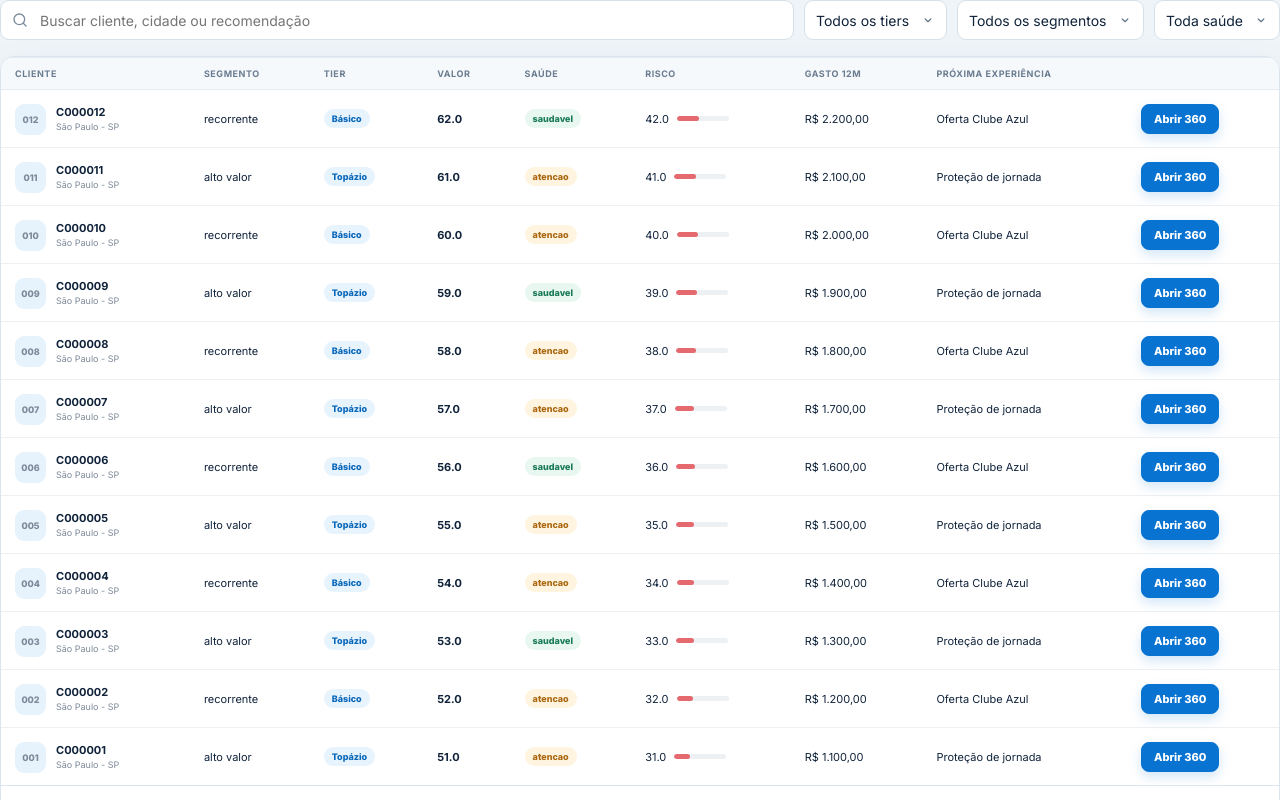
Test: explorador de clientes › combina filtros de tier e saúde
The width and height of the screenshot is (1280, 800).
Select "Topázio" in the 1st dropdown at (876, 20), box [804, 0, 947, 40]
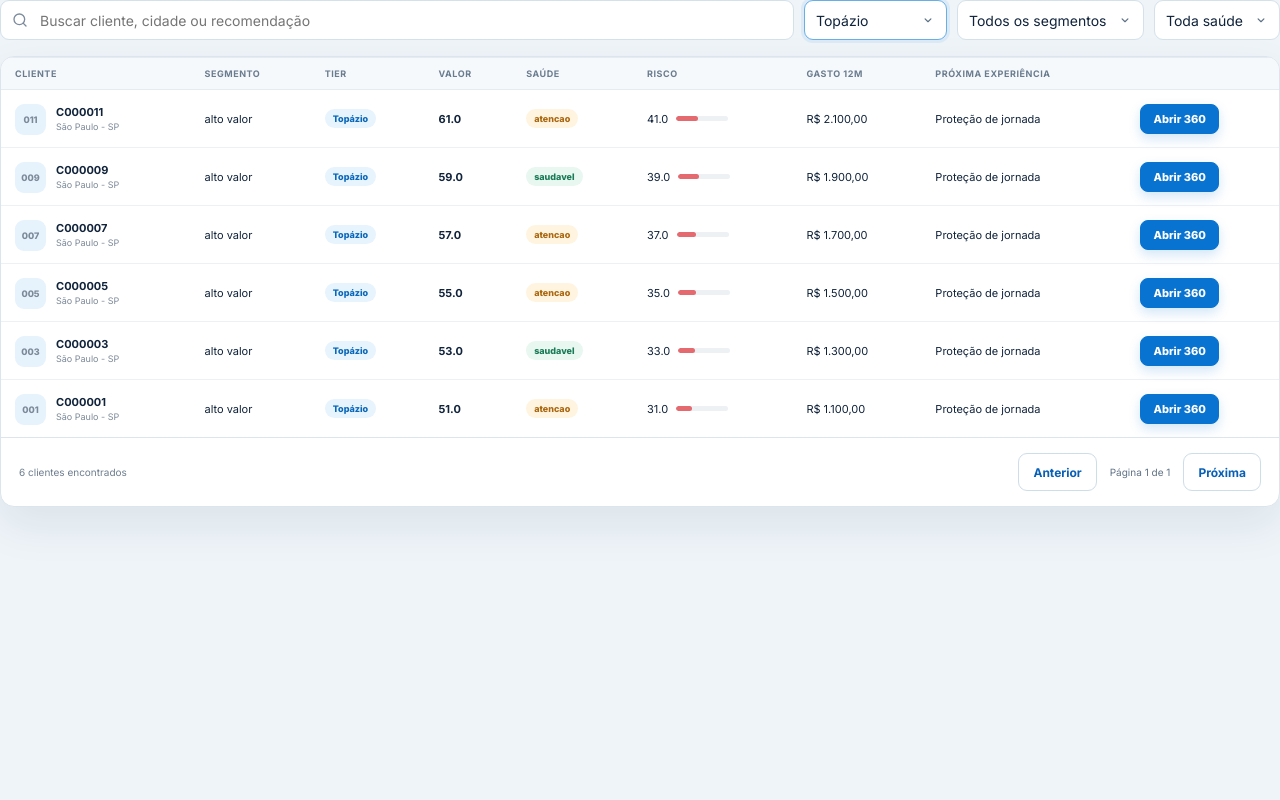
Select "Saudável" in the 3rd dropdown at (1217, 20), box [1154, 0, 1279, 40]
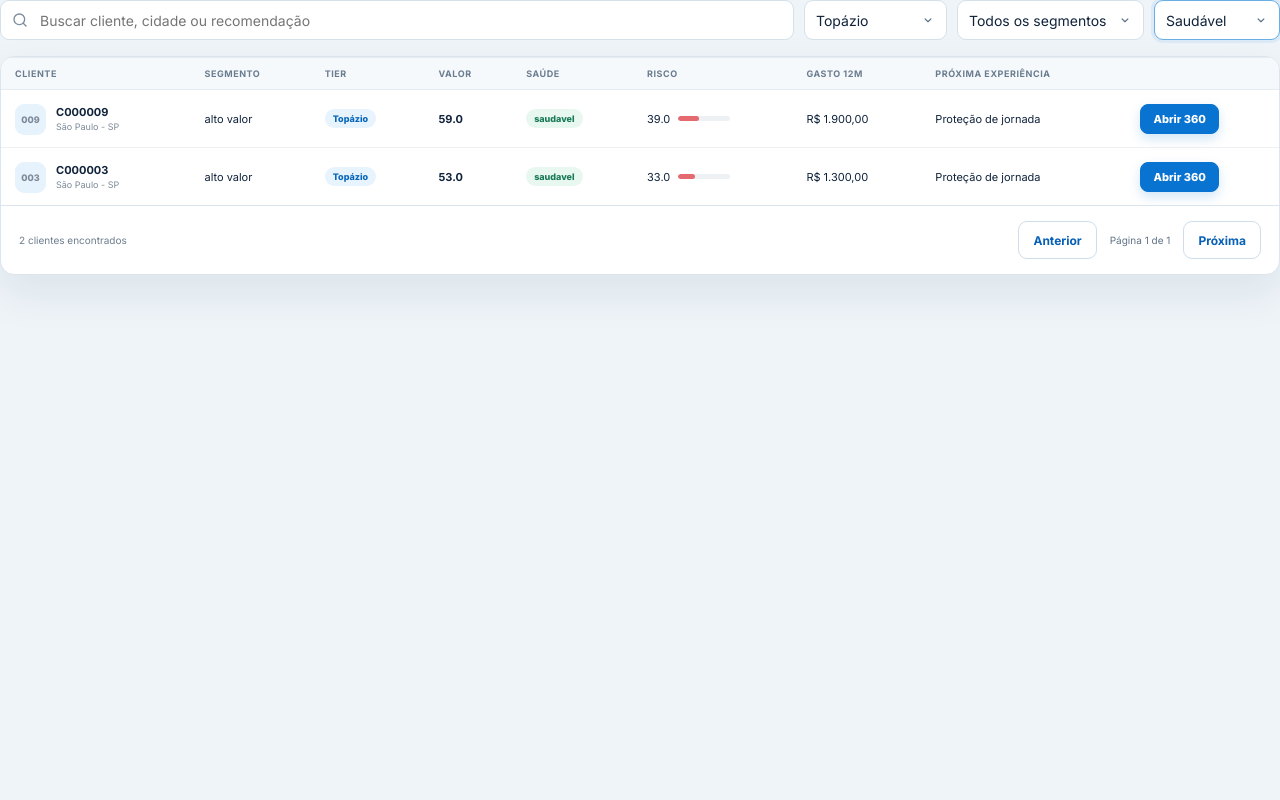
Result: the text "2 clientes encontrados" is shown at [19, 234, 127, 246]
Result: the text "Topázio" is shown 2 times at [325, 109, 376, 128]; [325, 167, 376, 186]
